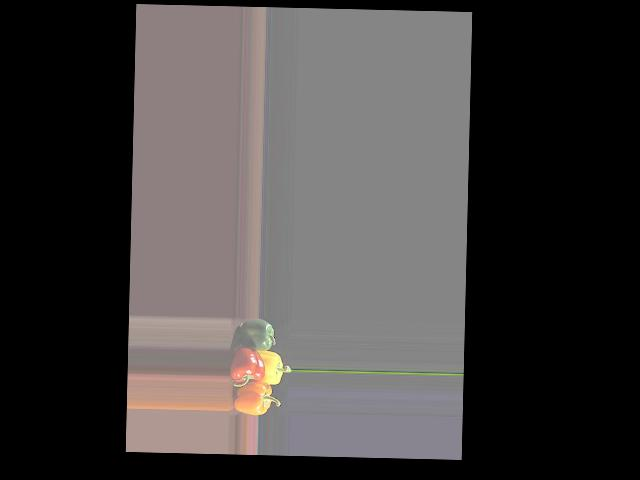bell_pepper: (227, 379, 276, 415)
